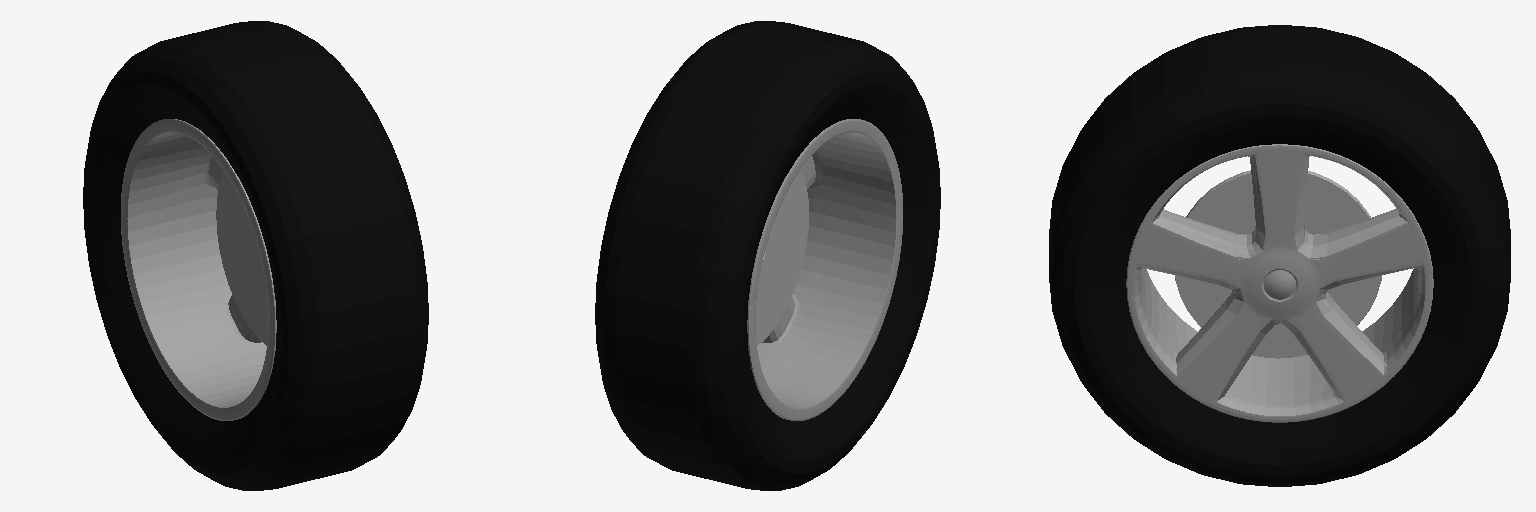
The model's file is AutoB_LLTI.obj.
The picture shows the model from 3 angles: view 1: azimuth 30°, elevation 25°; view 2: azimuth 150°, elevation 25°; view 3: azimuth 270°, elevation 25°; orthographic projection.
Visible parts, largest first — view 1: Tire2, Disk2, brake2; view 2: Tire2, Disk2, brake2; view 3: Tire2, Disk2, brake2.
Boxes of the visible parts, x1=… form: Tire2: x1=83, y1=21, x2=428, y2=490; Disk2: x1=121, y1=119, x2=276, y2=420; brake2: x1=216, y1=171, x2=267, y2=345; Tire2: x1=595, y1=21, x2=940, y2=490; Disk2: x1=747, y1=119, x2=902, y2=420; brake2: x1=756, y1=170, x2=808, y2=345; Tire2: x1=1049, y1=25, x2=1510, y2=486; Disk2: x1=1126, y1=144, x2=1433, y2=422; brake2: x1=1175, y1=170, x2=1381, y2=358.
Bounding box in the file's own units: 1.23 × 3.47 × 3.47.